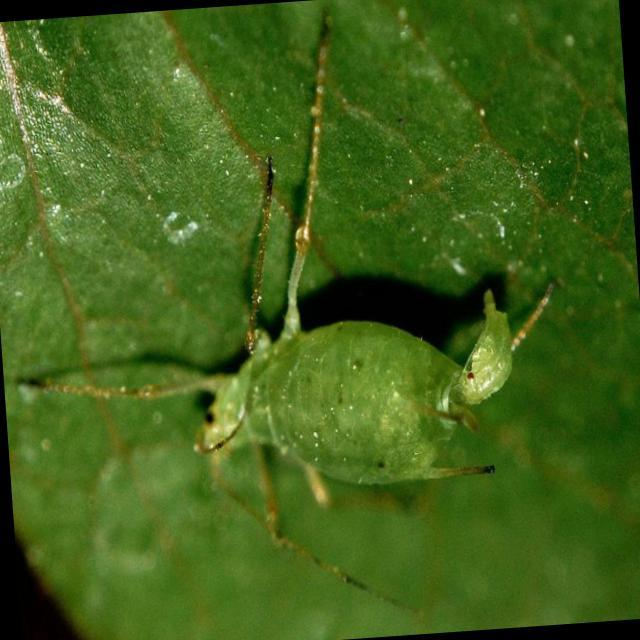aphid: (24, 45, 548, 606)
